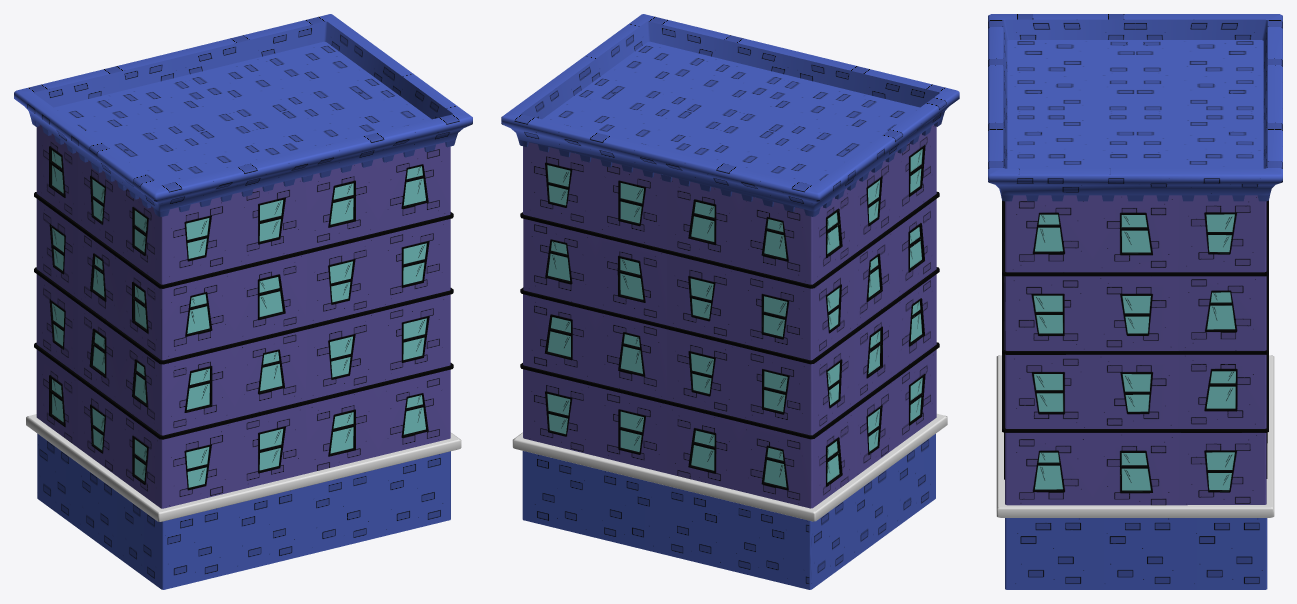
Rendered from 4x4x3_Building.fbx.
3 views of the same model, side by side, from view 1: azimuth 30°, elevation 25°; view 2: azimuth 150°, elevation 25°; view 3: azimuth 270°, elevation 25° (orthographic). The views are drawn at different scales.
Visible parts, largest first — view 1: 2x006, roof006, ground floor004, bar004; view 2: 2x006, roof006, ground floor004, bar004; view 3: 2x006, roof006, ground floor004, bar004.
Part boxes in pixels (<box>): 2x006: <box>34,125,453,508</box>; roof006: <box>14,14,472,216</box>; ground floor004: <box>37,433,450,589</box>; bar004: <box>26,414,461,521</box>; 2x006: <box>520,124,939,508</box>; roof006: <box>501,14,959,216</box>; ground floor004: <box>522,434,935,589</box>; bar004: <box>512,413,947,521</box>; 2x006: <box>1002,195,1268,505</box>; roof006: <box>988,14,1282,201</box>; ground floor004: <box>1005,518,1267,589</box>; bar004: <box>996,355,1274,517</box>.
Bounding box in the file's own units: 10.9 × 13.26 × 8.4.
